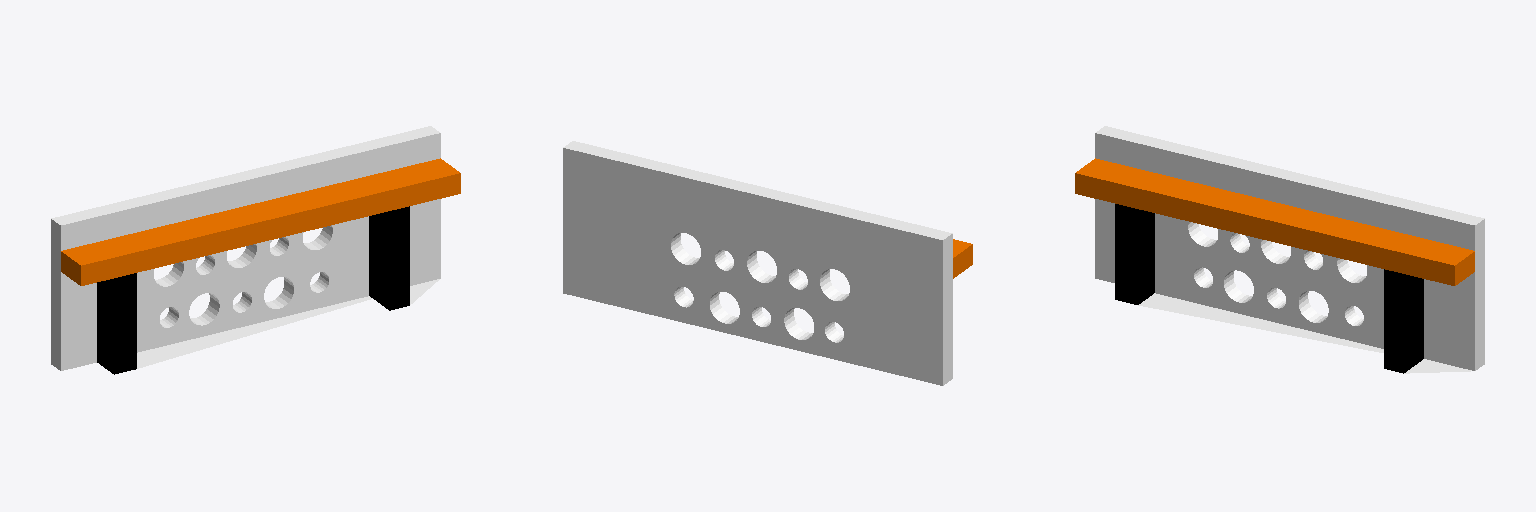
File: zabradlie.obj
The picture shows the model from 3 angles: view 1: azimuth 30°, elevation 25°; view 2: azimuth 150°, elevation 25°; view 3: azimuth 330°, elevation 25°; orthographic projection.
Visible parts, largest first — view 1: Mesh1 Model; view 2: Mesh1 Model; view 3: Mesh1 Model.
Boxes of the visible parts, box(x1,y1,x2,y2) form: Mesh1 Model: box(51, 126, 460, 374); Mesh1 Model: box(563, 141, 972, 385); Mesh1 Model: box(1075, 126, 1484, 373).
Bounding box in the file's own units: 178 × 65.25 × 24.25.